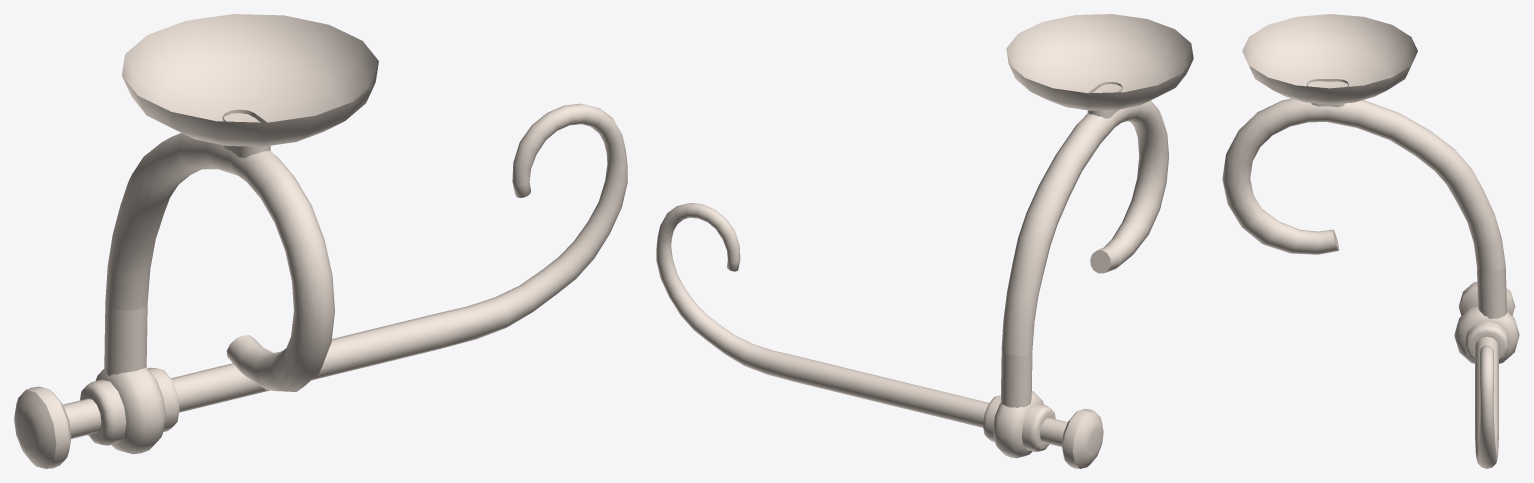
The model's file is ToiletPaperHanger_3_ToiletPaperHanger_3_0.obj.
3 renders of one model, left to right at view 1: azimuth 30°, elevation 25°; view 2: azimuth 150°, elevation 25°; view 3: azimuth 270°, elevation 25°, orthographic. The views are drawn at different scales.
Parts seen in each view (by area): view 1: ToiletPaperHanger_3; view 2: ToiletPaperHanger_3; view 3: ToiletPaperHanger_3.
Boxes of the visible parts, left/top/right/bottom form: ToiletPaperHanger_3: left=14, top=14, right=627, bottom=468; ToiletPaperHanger_3: left=656, top=14, right=1193, bottom=468; ToiletPaperHanger_3: left=1222, top=14, right=1519, bottom=468.
Size of the model in its own units: 0.2632 by 0.1936 by 0.1653.
